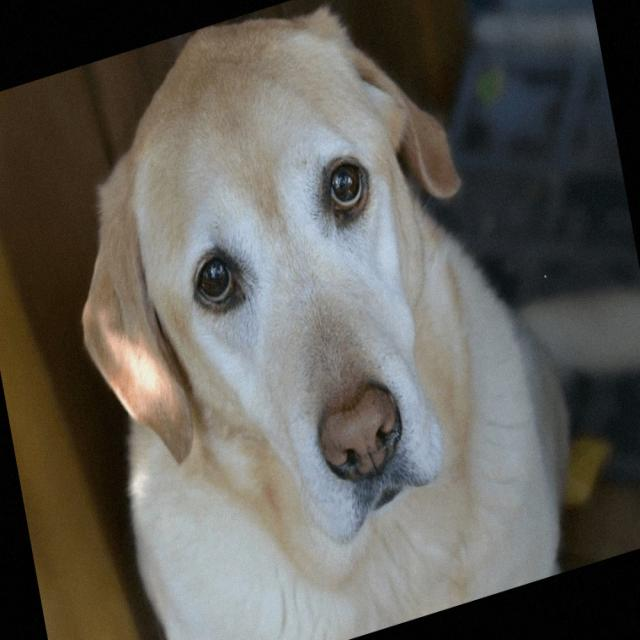sad: (82, 6, 478, 606)
